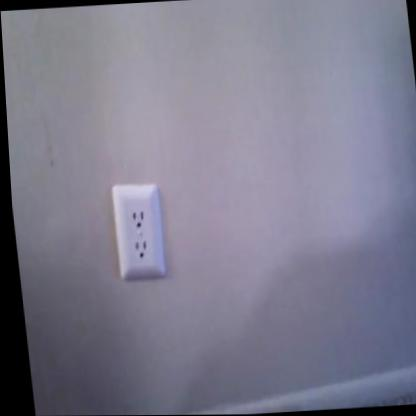OUTLET: (108, 179, 167, 281)
